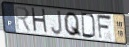D: (80, 12, 97, 40)
F: (96, 13, 113, 41)
H: (30, 7, 49, 36)
J: (50, 10, 64, 36)
Q: (63, 11, 83, 38)
R: (14, 5, 33, 34)
